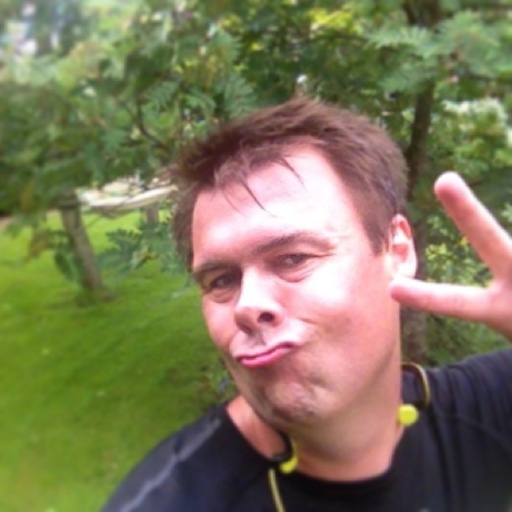hand: (389, 163, 510, 342)
